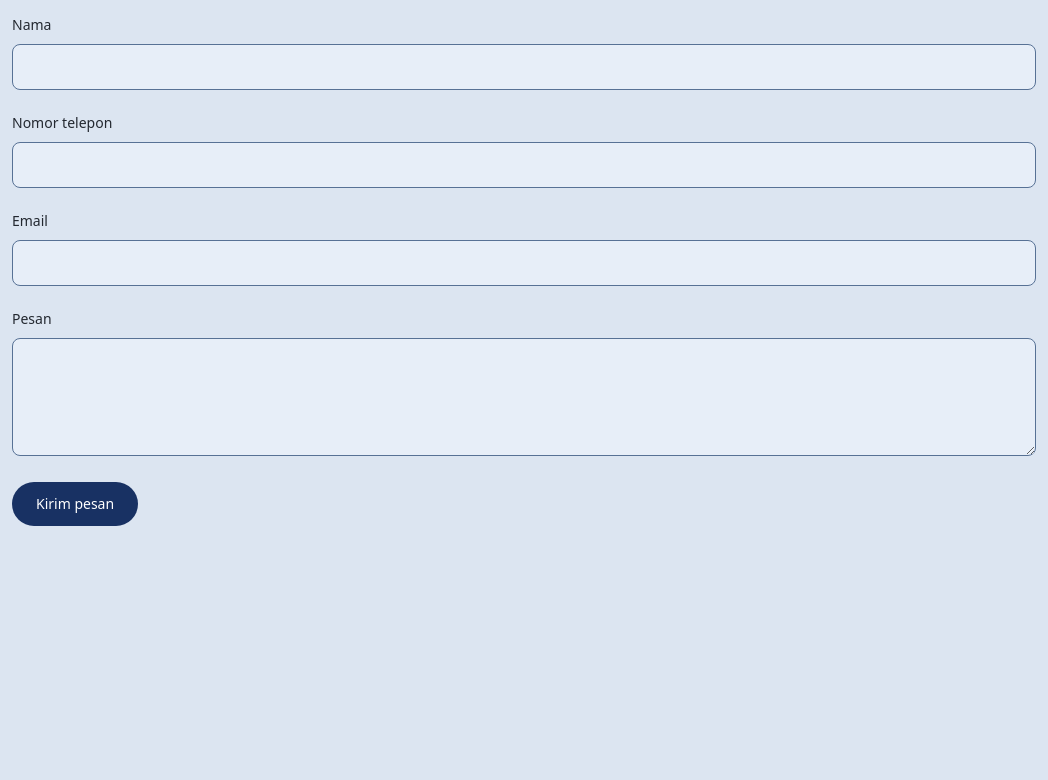
Test: ContactForm saat server action gagal › menampilkan pesan galat ketika action mengembalikan ok:false
Type "Budi Santoso" into the field labelled "Nama" at (524, 67), box [12,44,1036,90]
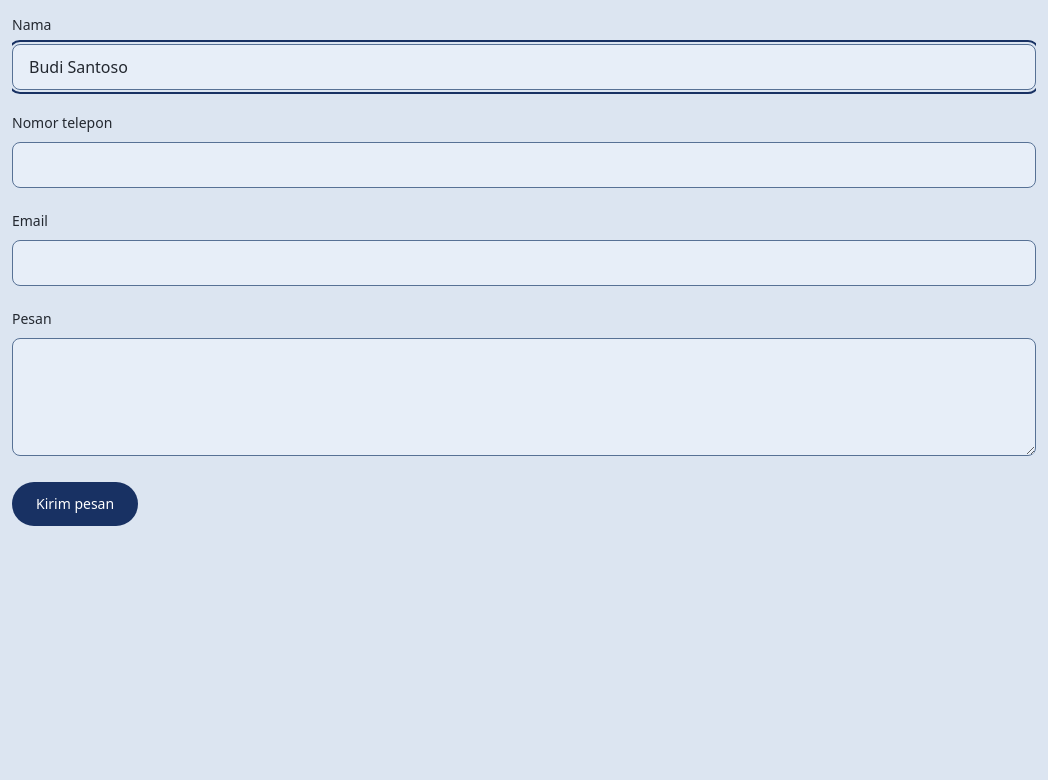
Type "+6281234567890" into the field labelled "Nomor telepon" at (524, 165), box [12,142,1036,188]
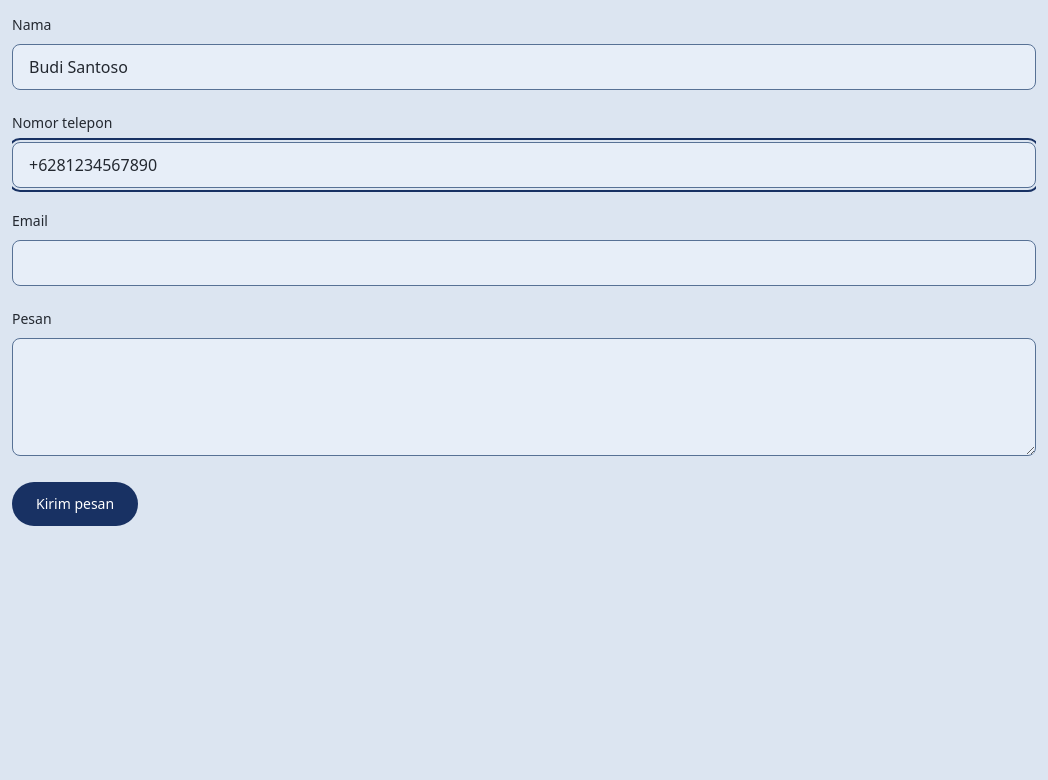
Type "budi@example.com" into the field labelled "Email" at (524, 263), box [12,240,1036,286]
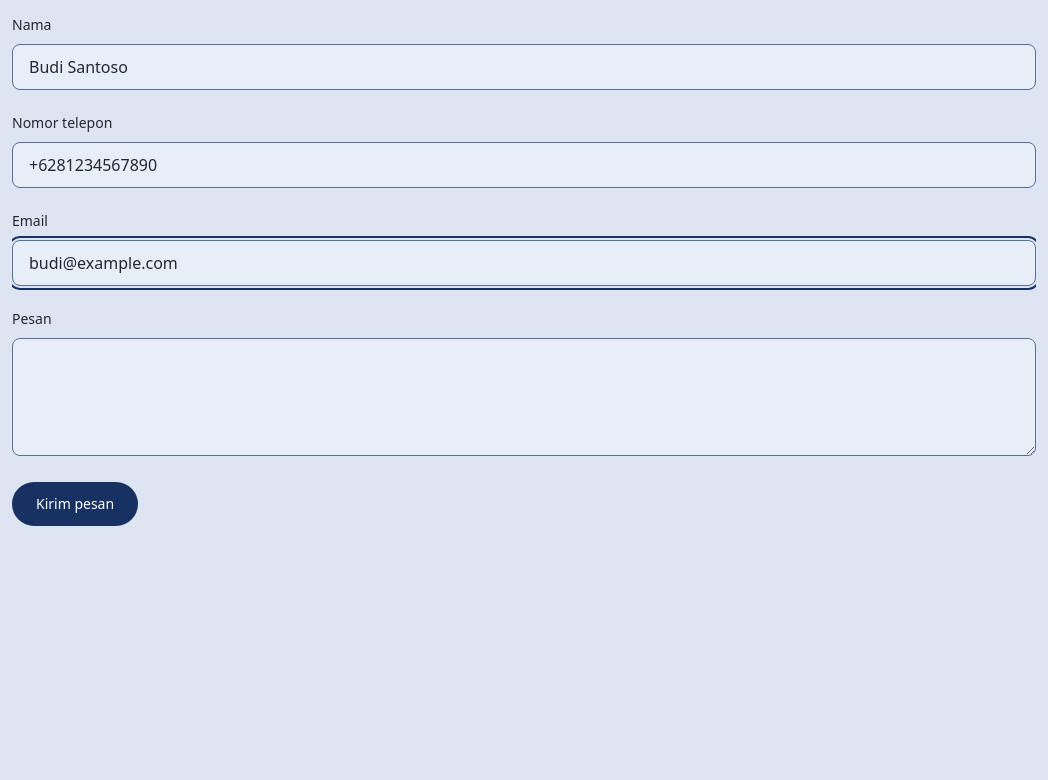
Type "Saya ingin bertanya soal pengangkutan BBM." into the text box labelled "Pesan" at (524, 397), box [12,338,1036,456]
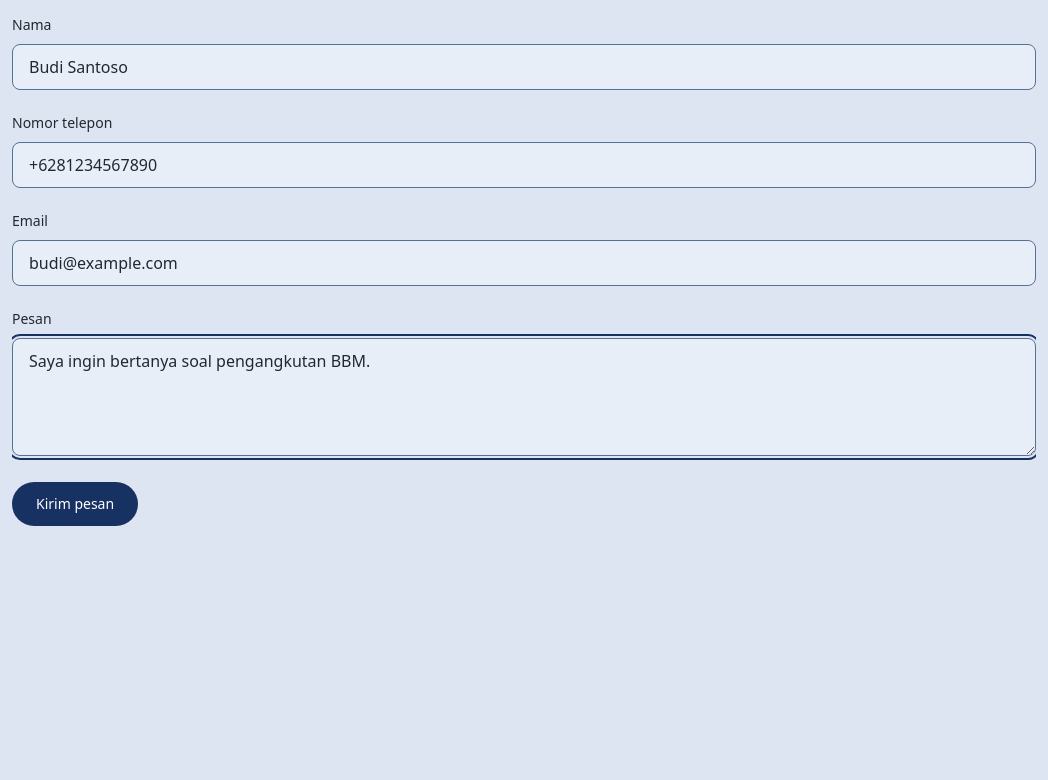
Click the button "Kirim pesan" at (75, 504), box [12,482,138,526]
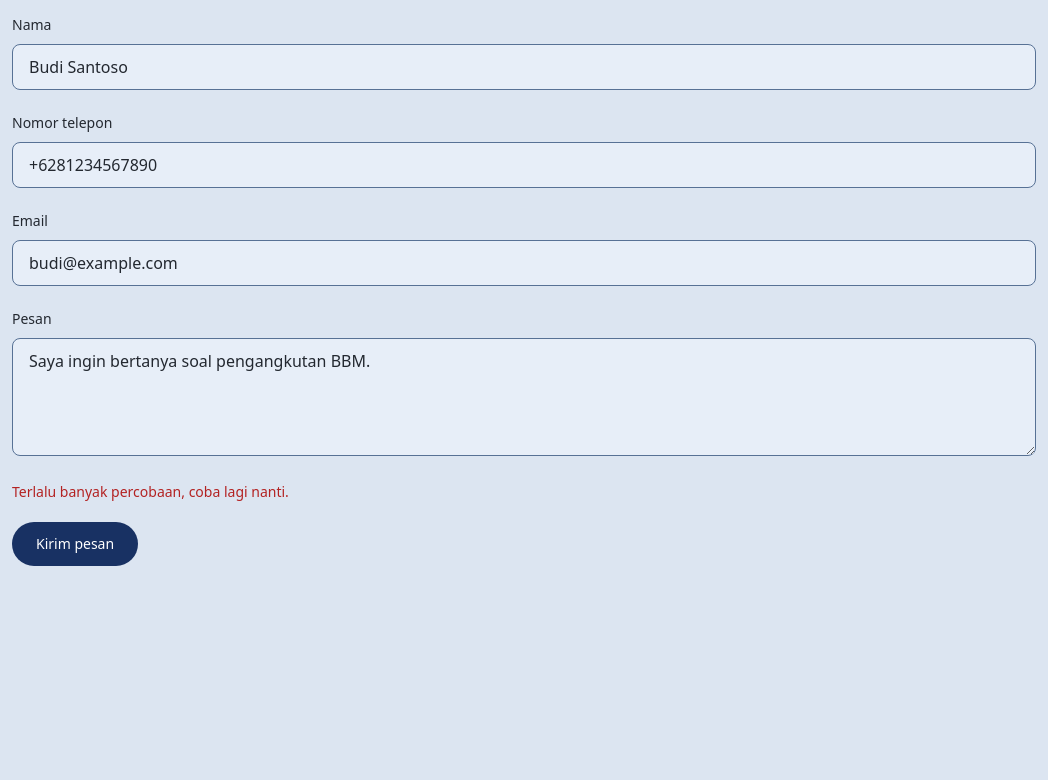
Expected: the message shows "Terlalu banyak percobaan", [12,482,289,501]
